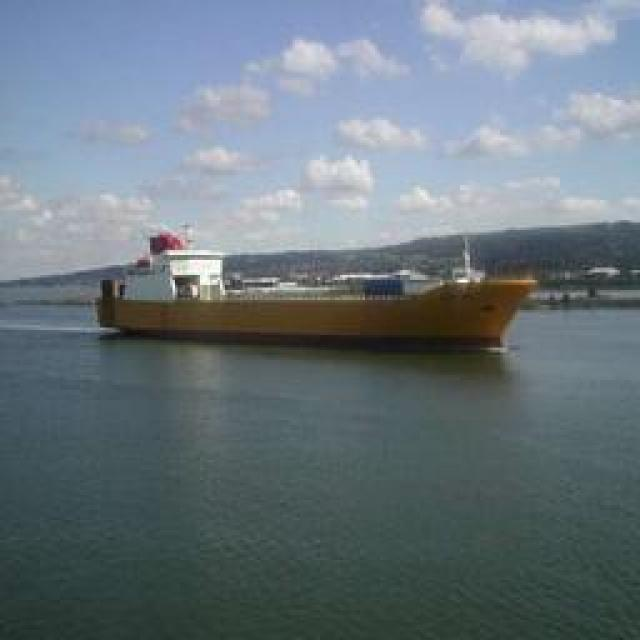CIV_Ship: (98, 229, 542, 349)
